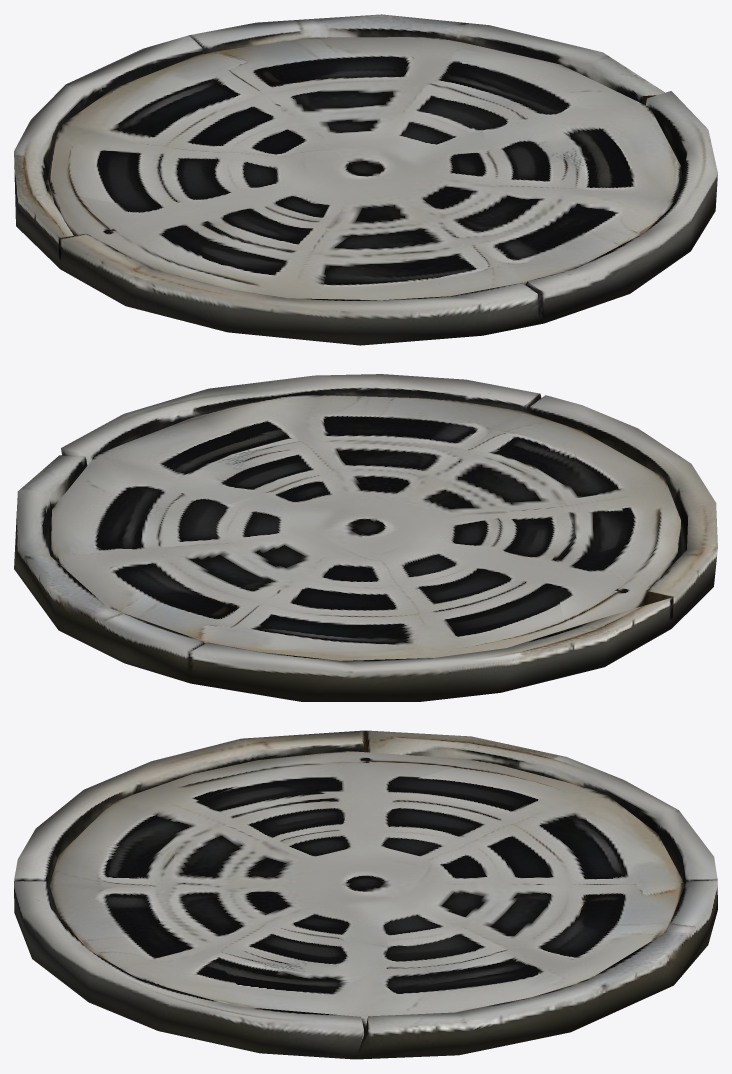
The model's file is tripo_convert_5338f39c-9c02-41ea-a1a1-d9a4f021ba7c.fbx.
The picture shows the model from 3 angles, top to bottom: view 1: azimuth 30°, elevation 25°; view 2: azimuth 150°, elevation 25°; view 3: azimuth 270°, elevation 25°; orthographic projection.
Visible parts, largest first — view 1: tripo_node_5338f39c; view 2: tripo_node_5338f39c; view 3: tripo_node_5338f39c.
Part boxes in pixels (box(x1,y1,x2,y2)): tripo_node_5338f39c: box(14, 14, 717, 345); tripo_node_5338f39c: box(14, 374, 717, 701); tripo_node_5338f39c: box(14, 730, 717, 1059).
Bounding box in the file's own units: 1 × 0.0503 × 1.
Materials: 1 (1 with a texture image).
